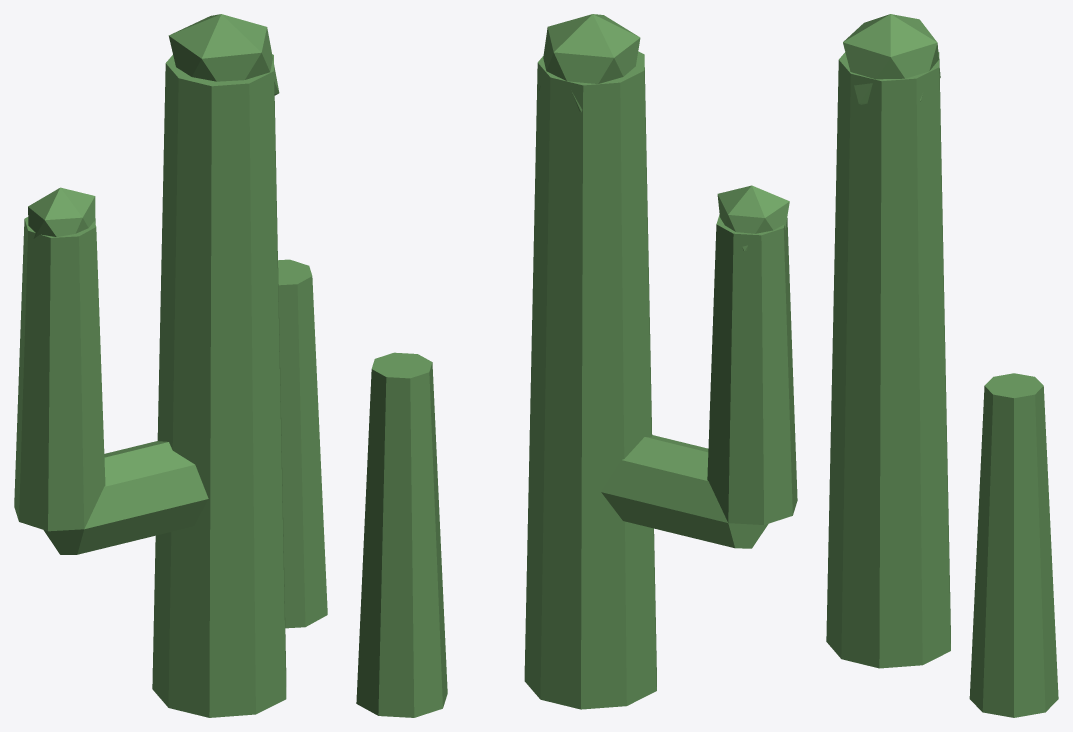
Rendered from cactus_cluster.glb.
The picture shows the model from 3 angles, left to right: view 1: azimuth 30°, elevation 25°; view 2: azimuth 150°, elevation 25°; view 3: azimuth 270°, elevation 25°; orthographic projection. The views are drawn at different scales.
Parts seen in each view (by area): view 1: cactus_cluster__static; view 2: cactus_cluster__static; view 3: cactus_cluster__static.
Boxes of the visible parts, x1,y1,x2,y2 form: cactus_cluster__static: (14,14,327,717); cactus_cluster__static: (356,14,797,717); cactus_cluster__static: (826,14,1058,717).
Bounding box in the file's own units: 1.61 × 2.8 × 0.94.
